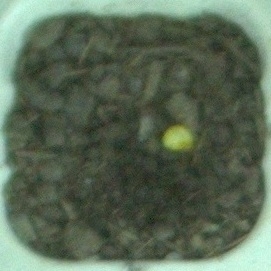pepper seed: (63, 47, 260, 202)
